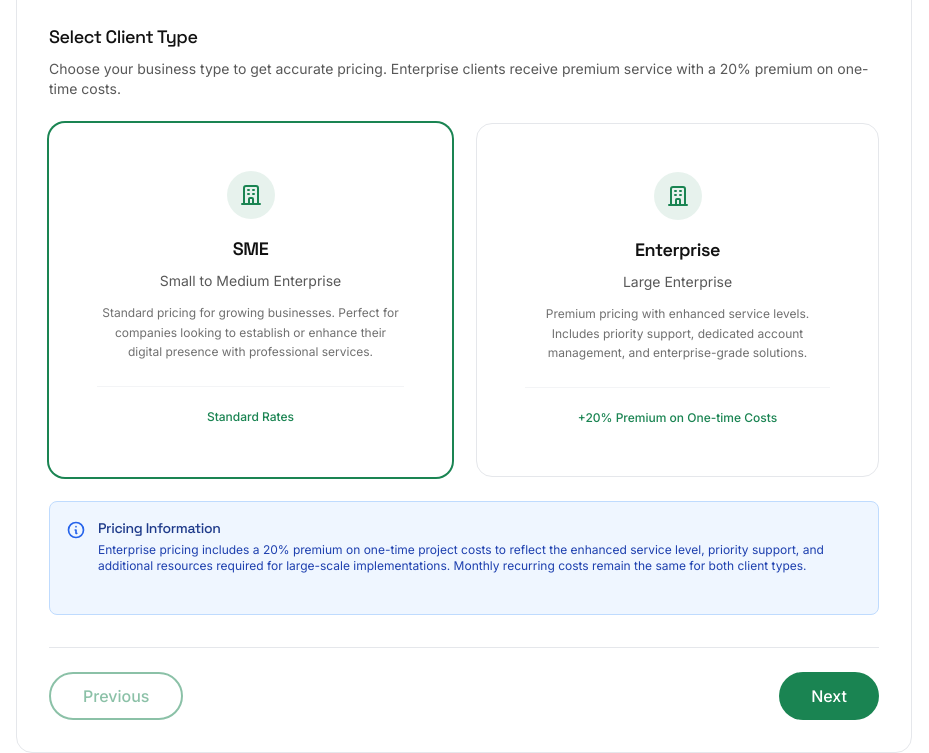
it: PricingCalculator UI Components › Summary and Export Functionality › should validate email input for email export
This screenshot has width=929, height=753.
(page scrolled)
Click the button "Next".
click(829, 696)  # box [779,672,879,720]
(page scrolled)
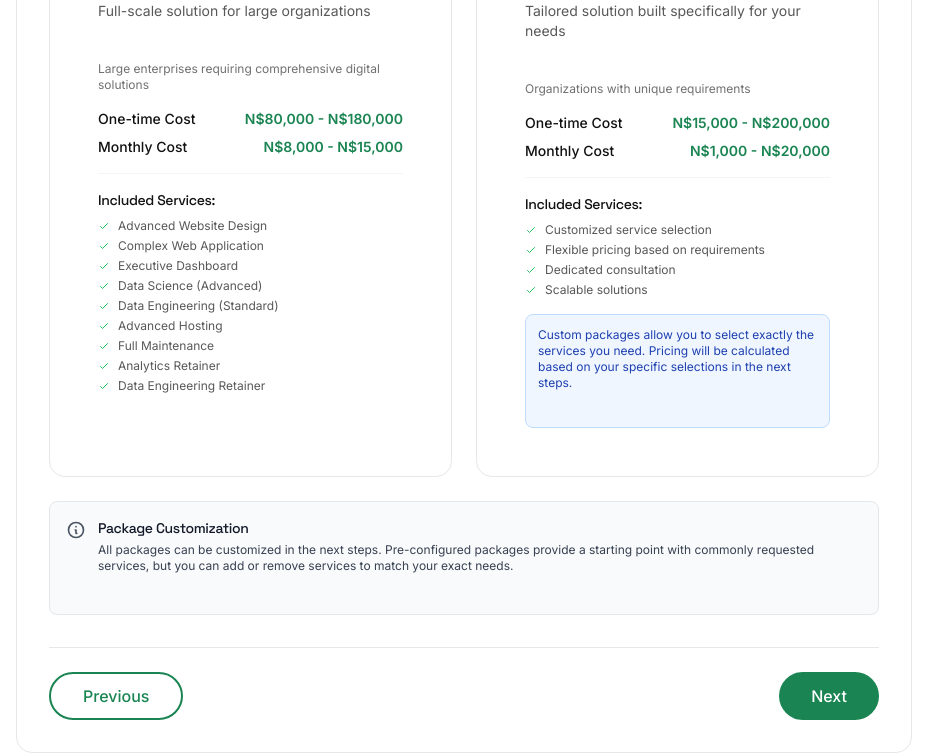
Click the button "Next".
click(829, 696)  # box [779,672,879,720]
(page scrolled)
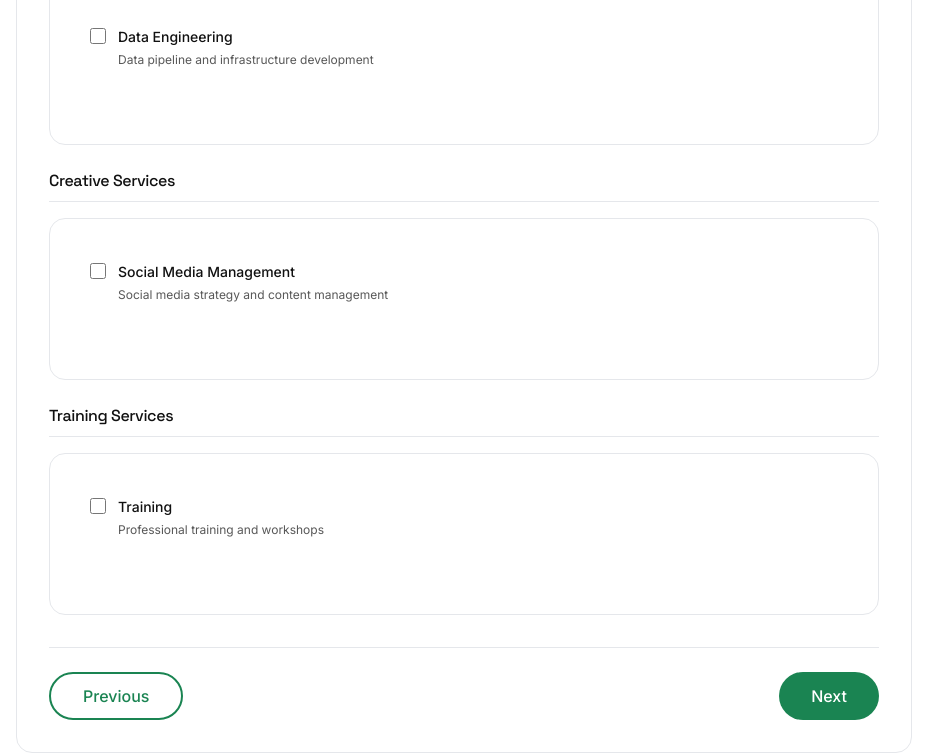
Click the button "Next".
click(829, 696)  # box [779,672,879,720]
(page scrolled)
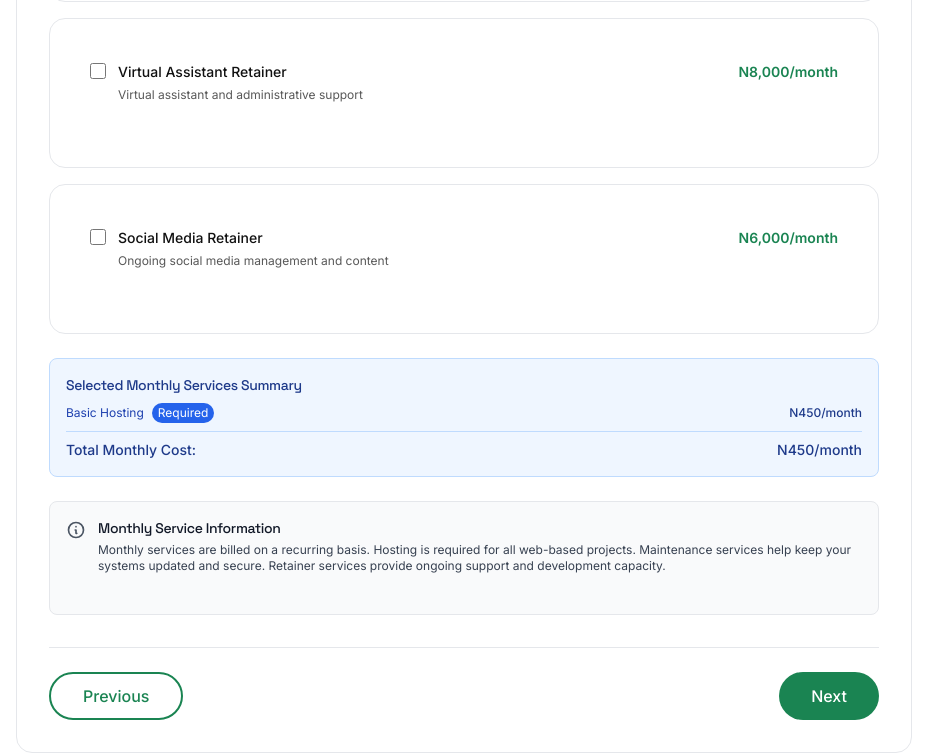
Click the button "Next".
click(829, 696)  # box [779,672,879,720]
(page scrolled)
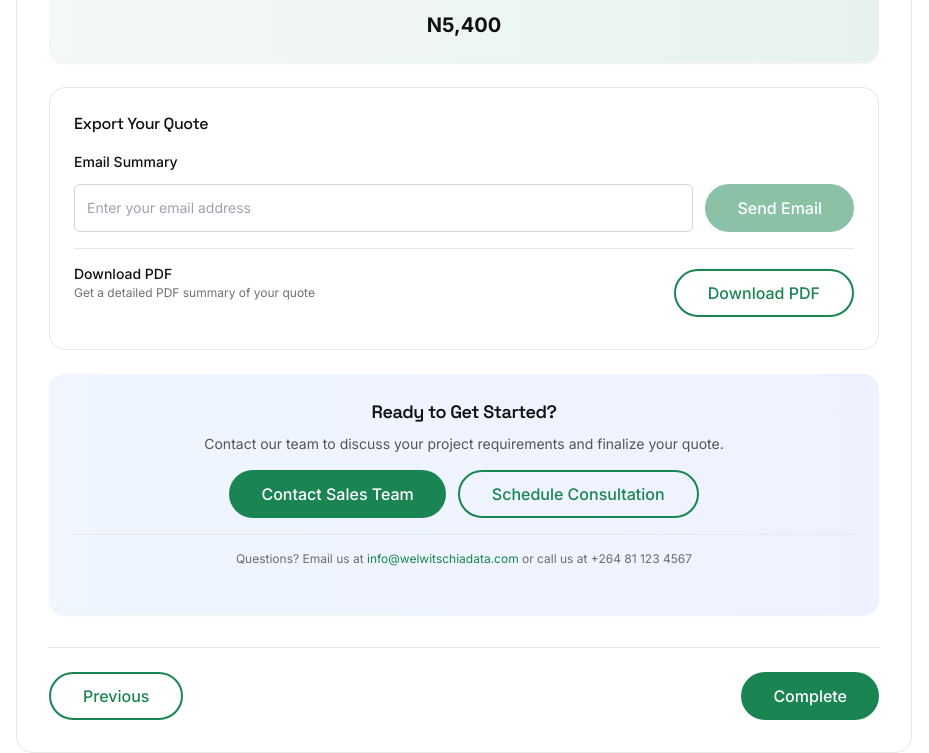
Expected: the button "Send Email" is disabled, [706,184,854,232]
Type "test@example.com" into the field with placeholder "Enter your email address".
click(384, 208); type("test@example.com")  # box [74,184,694,232]
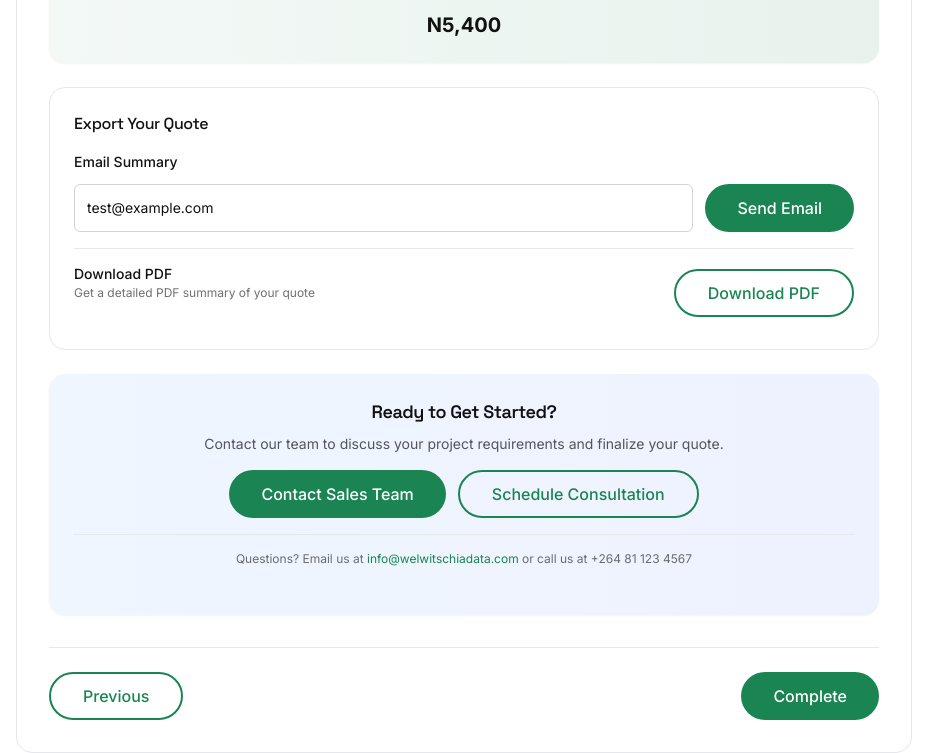
Expected: the button "Send Email" is enabled, [706,184,854,232]
